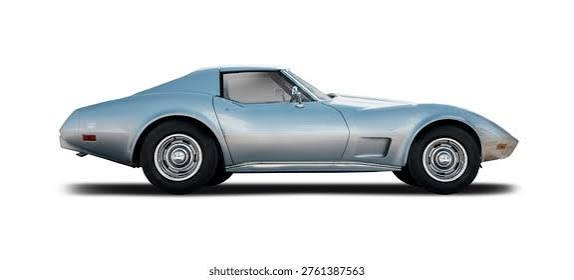car: (52, 64, 514, 190)
